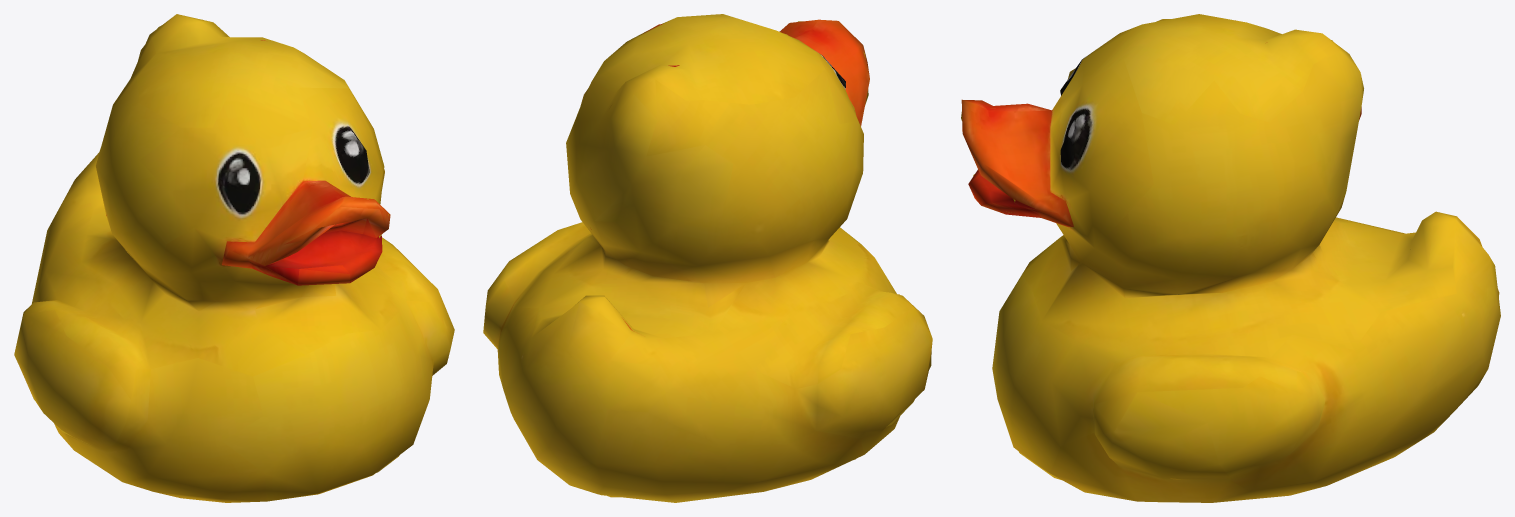
The model's file is rubber-duck.glb.
The picture shows the model from 3 angles, left to right: view 1: azimuth 30°, elevation 25°; view 2: azimuth 150°, elevation 25°; view 3: azimuth 270°, elevation 25°; orthographic projection. The views are drawn at different scales.
Visible parts, largest first — view 1: rubber-duck; view 2: rubber-duck; view 3: rubber-duck.
Boxes of the visible parts, x1=… form: rubber-duck: x1=14, y1=14, x2=454, y2=502; rubber-duck: x1=483, y1=14, x2=932, y2=502; rubber-duck: x1=961, y1=14, x2=1500, y2=502.
Size of the model in its own units: 1.55 by 1.5 by 1.83.
Materials: 1 (1 with a texture image).
